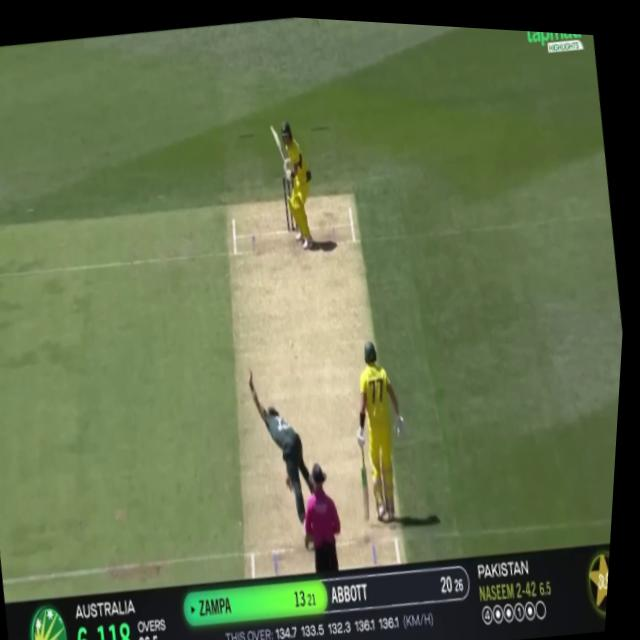Batsman: (251, 103, 340, 271)
